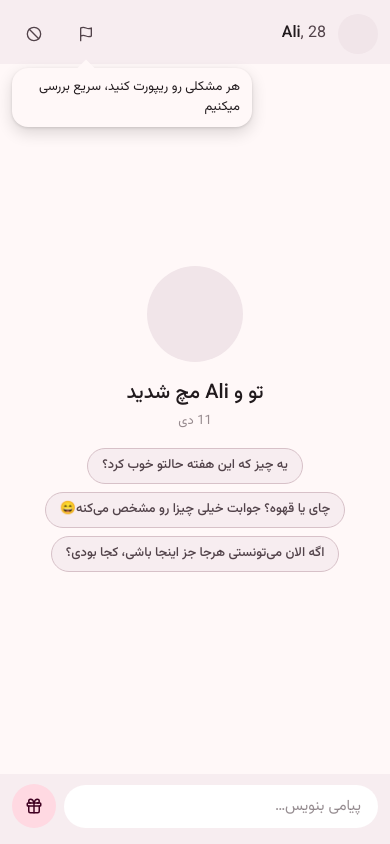
Test case: report tooltip in chat (women) › tapping the tooltip itself opens the report sheet and dismisses it for good
The width and height of the screenshot is (390, 844).
Later steps or results of the test are not shown.
Step 1. Click the tooltip with test id "report-tooltip" → (132, 98), box [12,68,252,127]
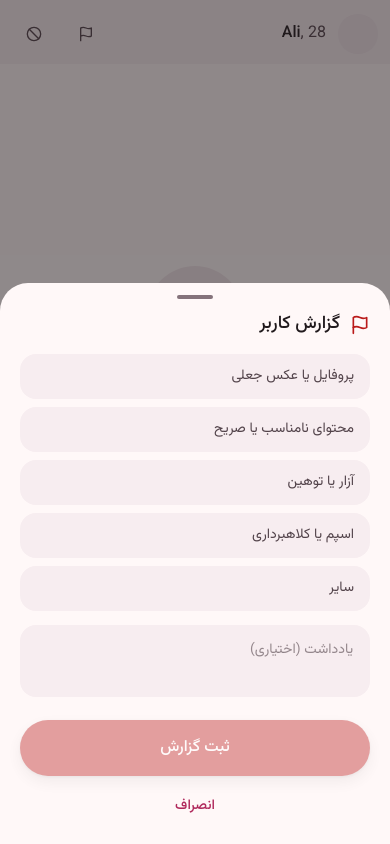
Expected: the tooltip with test id "report-tooltip" is gone
